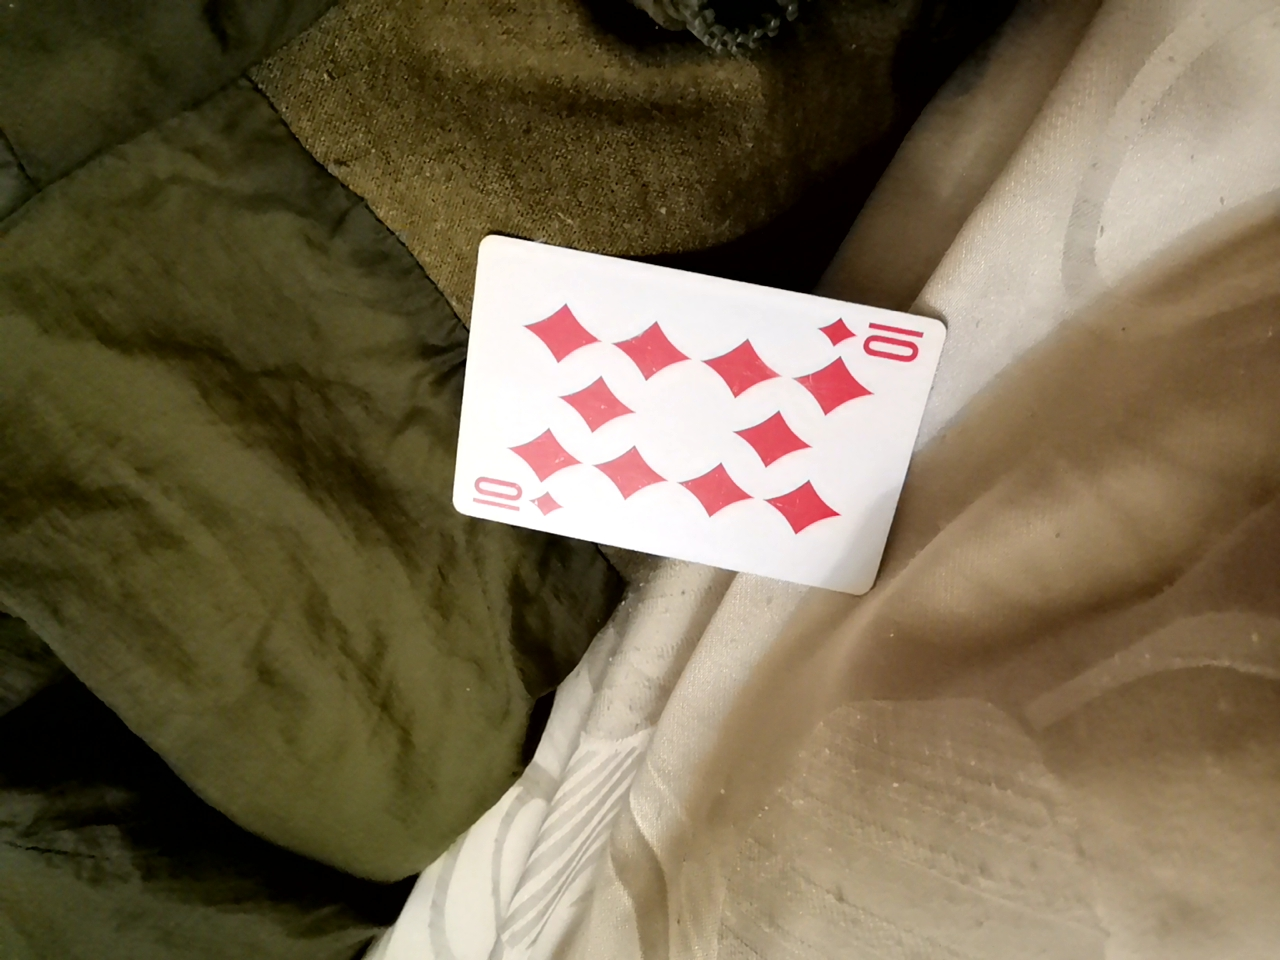fk 10: (455, 237, 953, 568)
